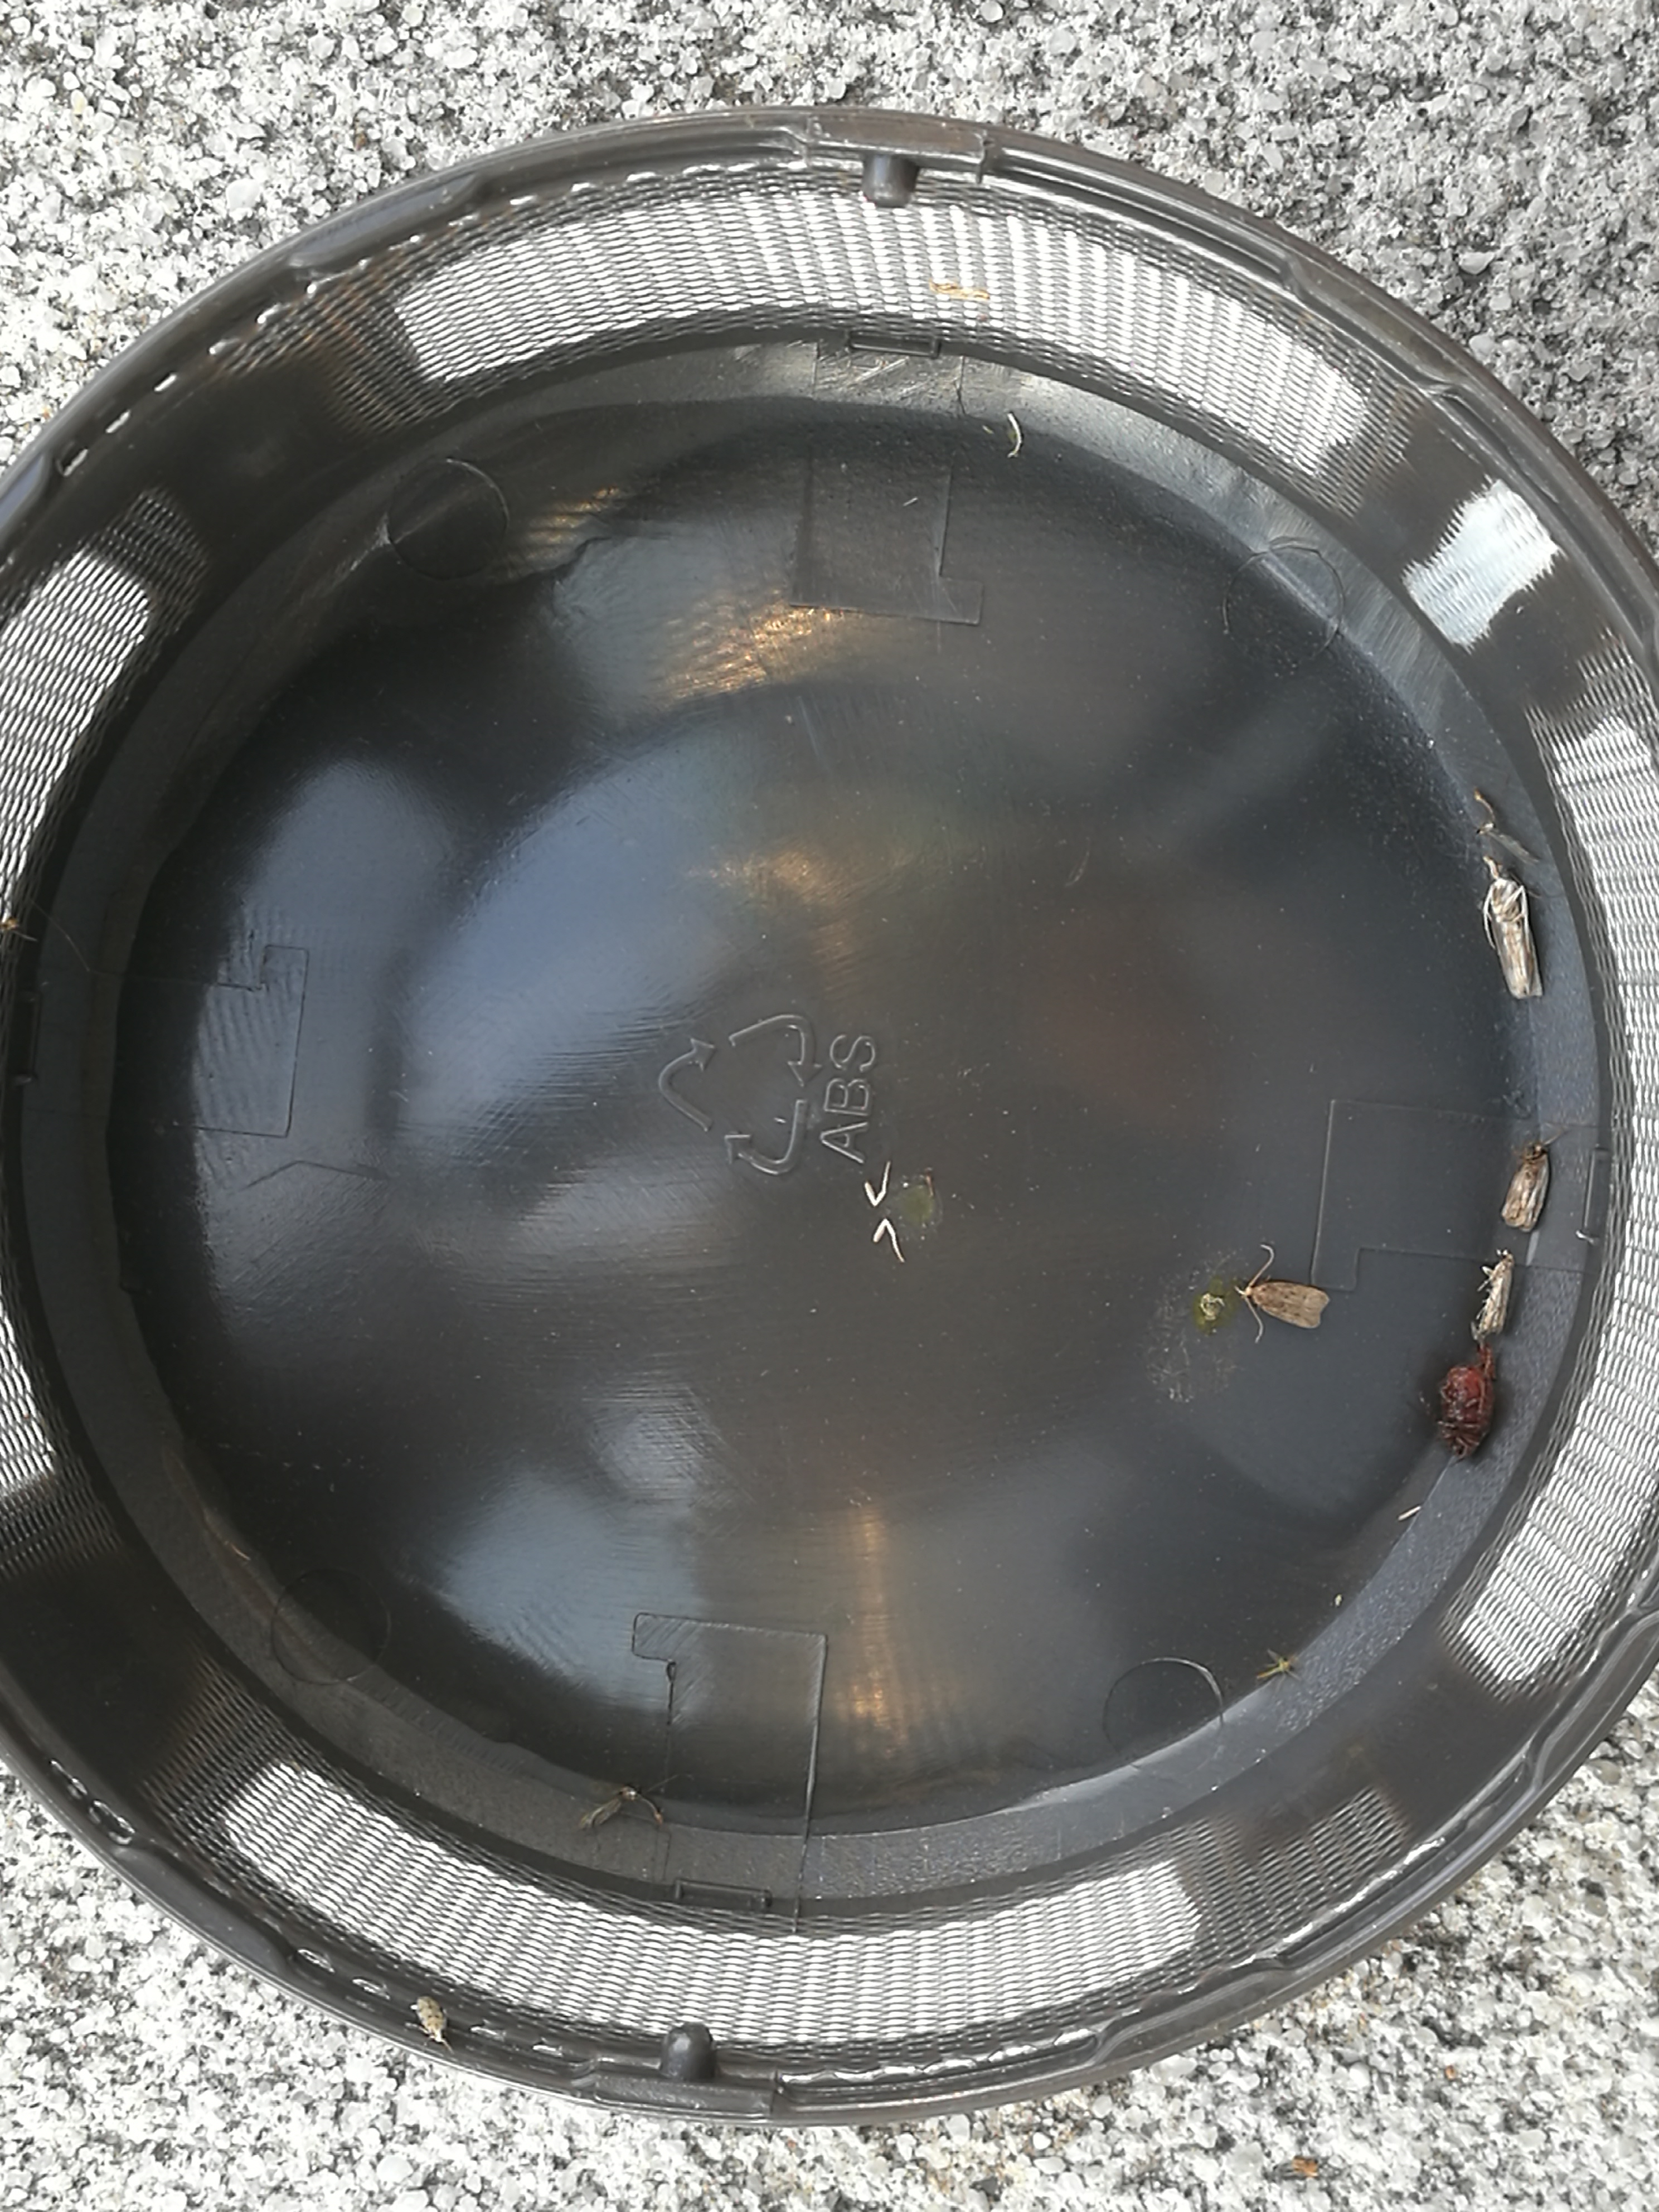beetle: (1441, 1367, 1495, 1454)
mosquito: (1490, 878, 1542, 1000), (1502, 1144, 1549, 1230), (1480, 1251, 1514, 1334)
moth: (1251, 1280, 1330, 1327), (415, 1996, 448, 2040)
